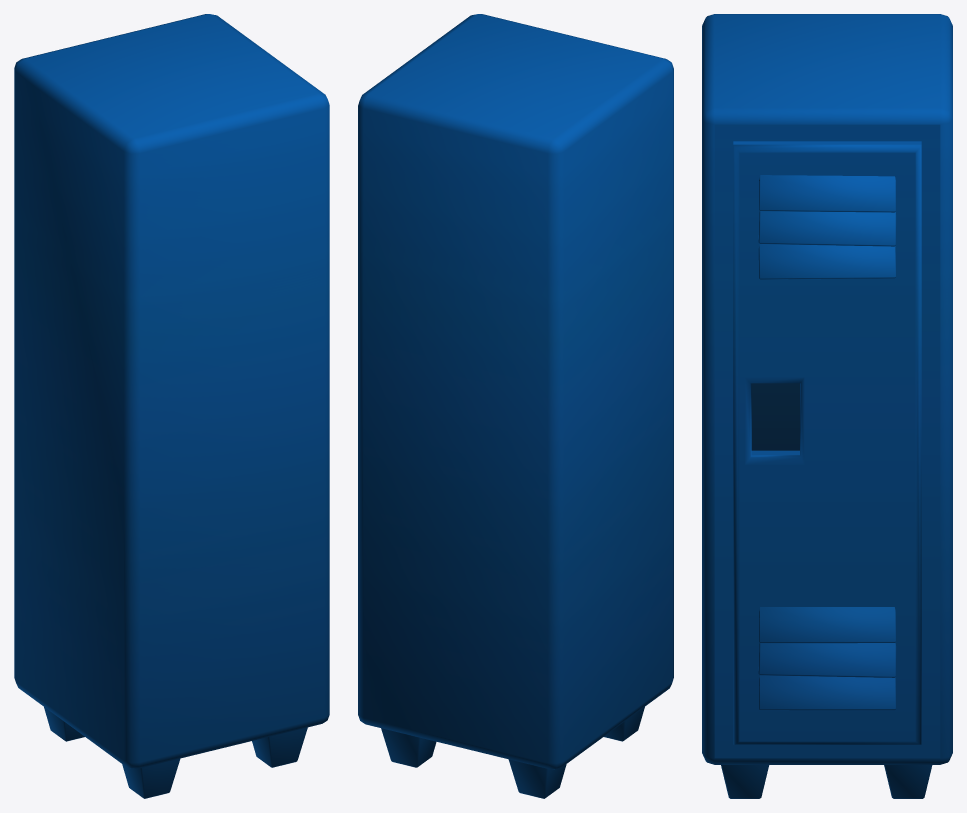
The model's file is Locker.fbx.
3 views of the same model, side by side, from view 1: azimuth 30°, elevation 25°; view 2: azimuth 150°, elevation 25°; view 3: azimuth 270°, elevation 25° (orthographic). The views are drawn at different scales.
Parts seen in each view (by area): view 1: Locker; view 2: Locker; view 3: Locker.
Boxes of the visible parts, <box> form: Locker: <box>14,14,329,798</box>; Locker: <box>358,14,673,798</box>; Locker: <box>702,14,952,798</box>.
Bounding box in the file's own units: 307 × 867 × 282.
